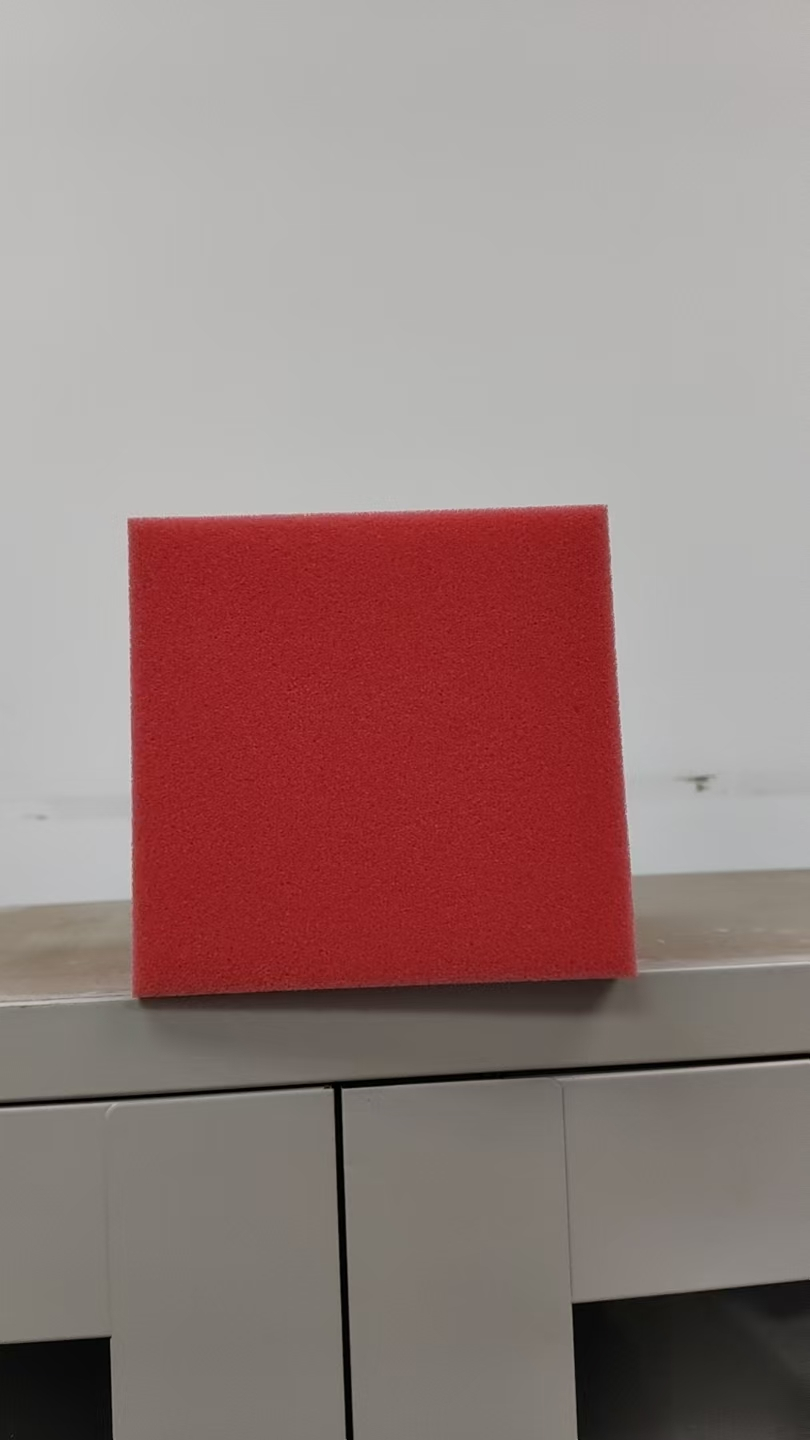red_large: (126, 502, 638, 997)
